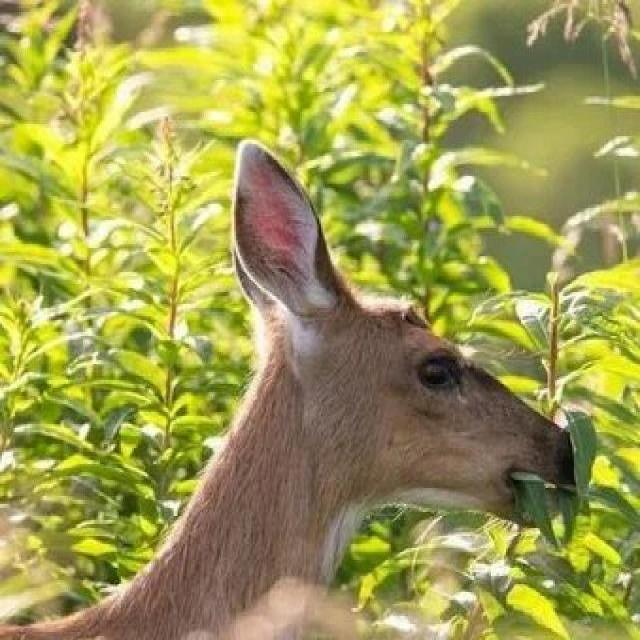deer: (0, 157, 632, 640)
